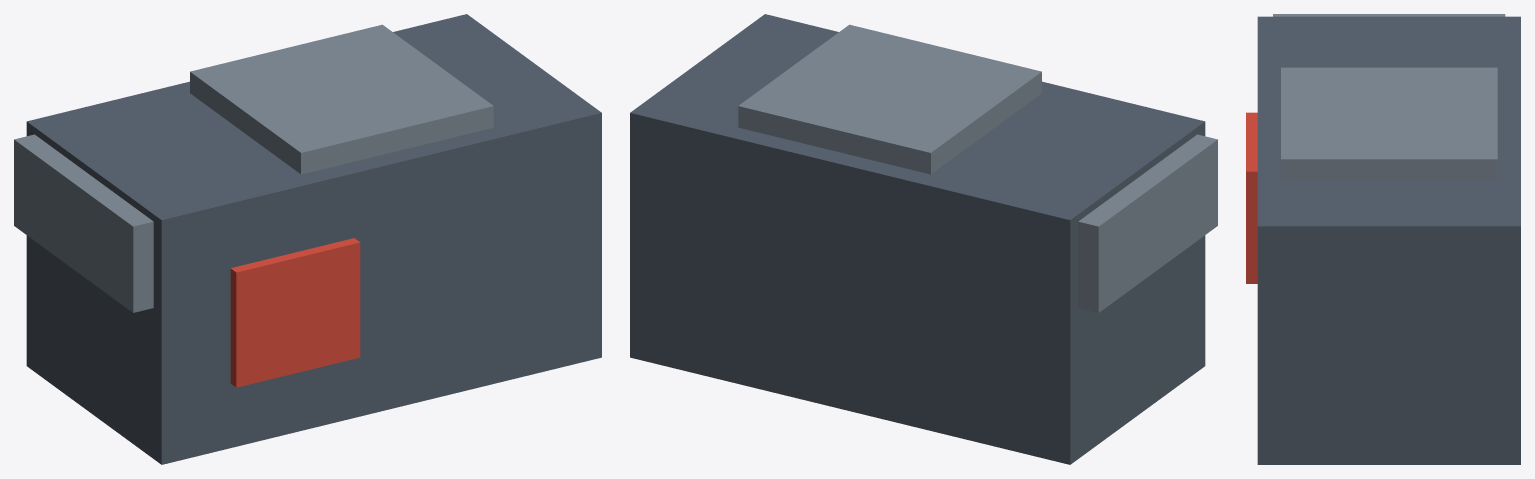
3 renders of one model, left to right at view 1: azimuth 30°, elevation 25°; view 2: azimuth 150°, elevation 25°; view 3: azimuth 270°, elevation 25°, orthographic. The views are drawn at different scales.
Visible parts, largest first — view 1: GEO_module_front_shell_01_LOD0; view 2: GEO_module_front_shell_01_LOD0; view 3: GEO_module_front_shell_01_LOD0.
Boxes of the visible parts, left/top/right/bottom form: GEO_module_front_shell_01_LOD0: left=14, top=14, right=601, bottom=464; GEO_module_front_shell_01_LOD0: left=630, top=14, right=1217, bottom=464; GEO_module_front_shell_01_LOD0: left=1246, top=14, right=1520, bottom=464.
Size of the model in its own units: 0.067 by 0.037 by 0.0355.
